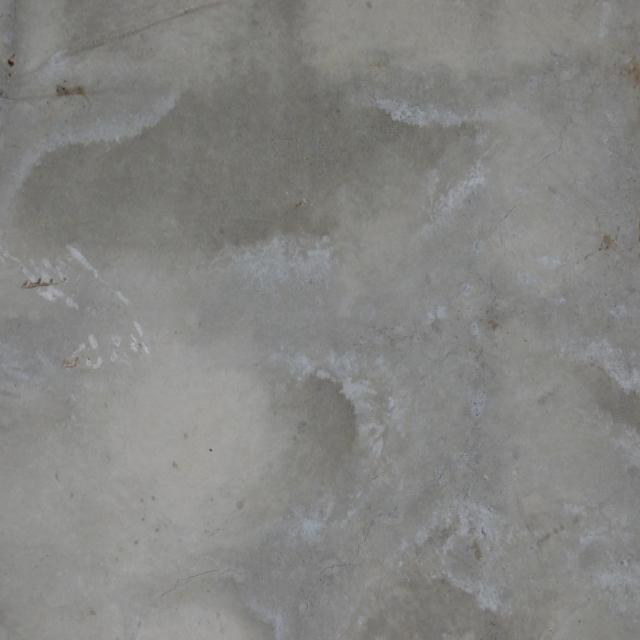corrosion: (546, 530, 640, 593), (567, 346, 628, 368)
